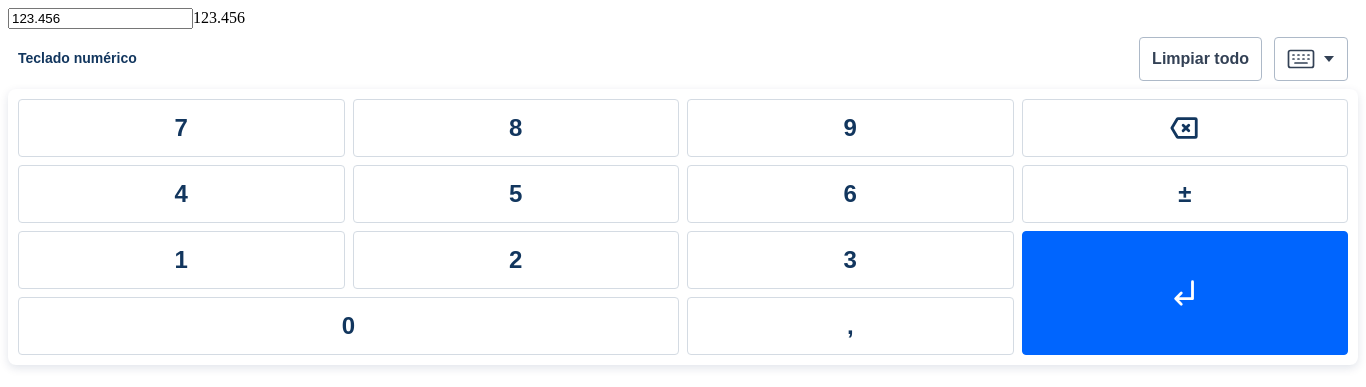
Test case: TouchNumericKeypad › retains initial replacement for native number inputs without losing an incomplete decimal draft
Click the button "2" at [516, 260], box [352,231,679,289]
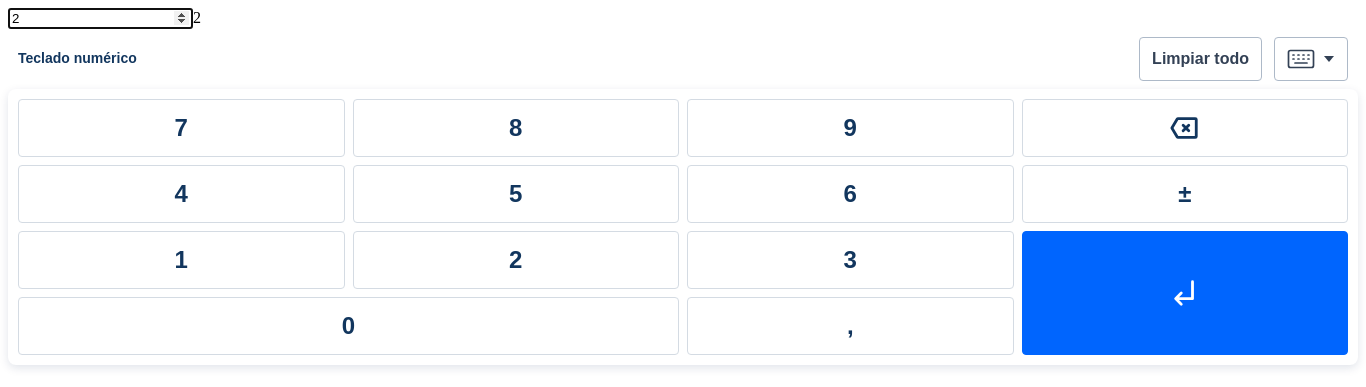
expect the text with test id "draft-value" reads "2": met, box [193,9,201,26]
Click the button "," at [850, 326], box [687,297,1014,355]
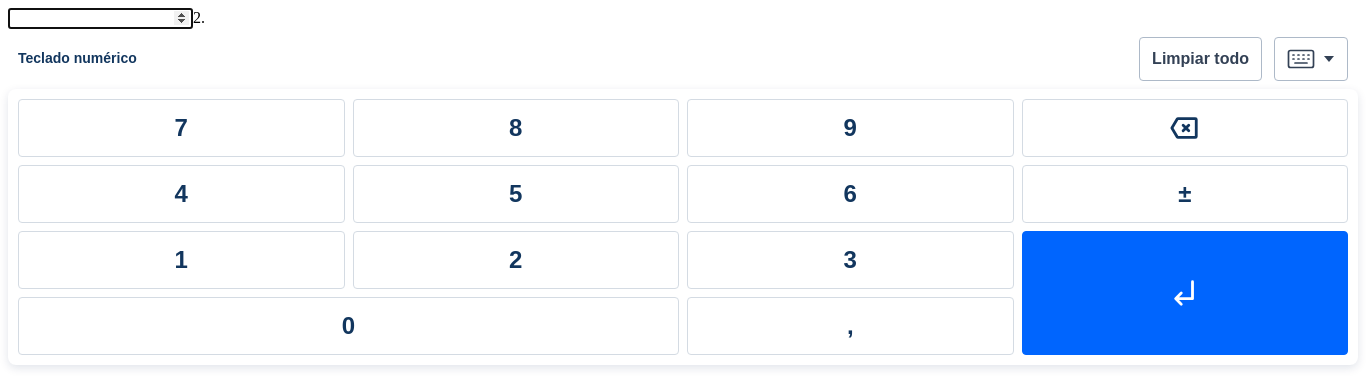
expect the text with test id "draft-value" reads "2.": met, box [193,9,205,26]
Click the button "9" at [850, 128], box [687,99,1014,157]
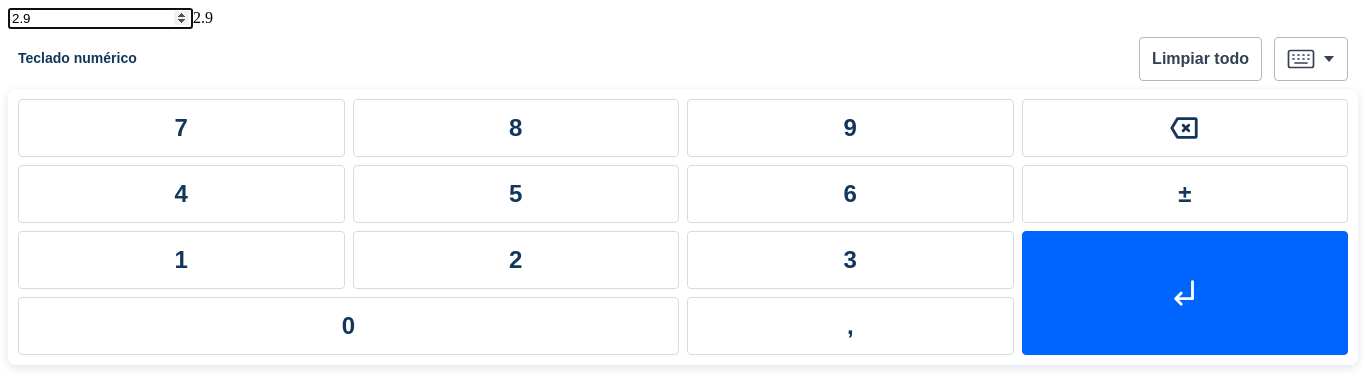
expect the text with test id "draft-value" reads "2.9": met, box [193,9,213,26]
